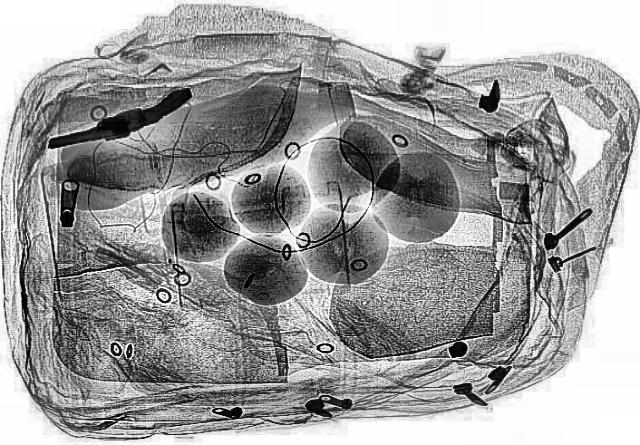Gun: (39, 84, 209, 160)
